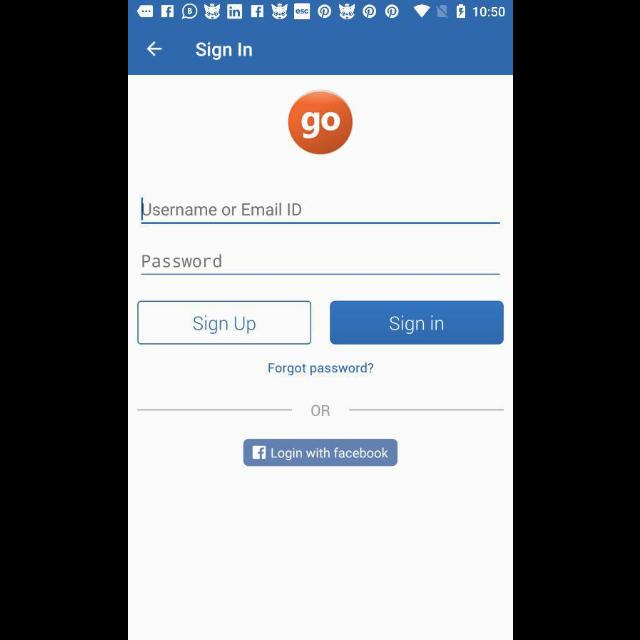icon: (146, 42, 162, 58)
image: (288, 90, 352, 154)
input: (140, 198, 500, 225), (140, 254, 500, 276)
text: (142, 203, 302, 217), (268, 362, 372, 376), (142, 255, 222, 269), (195, 41, 252, 60), (310, 405, 330, 417)
textbutton: (329, 301, 503, 345), (137, 301, 311, 345), (243, 439, 397, 466)
toolbar: (128, 24, 512, 76)
uppertaskbar: (128, 1, 512, 23)
